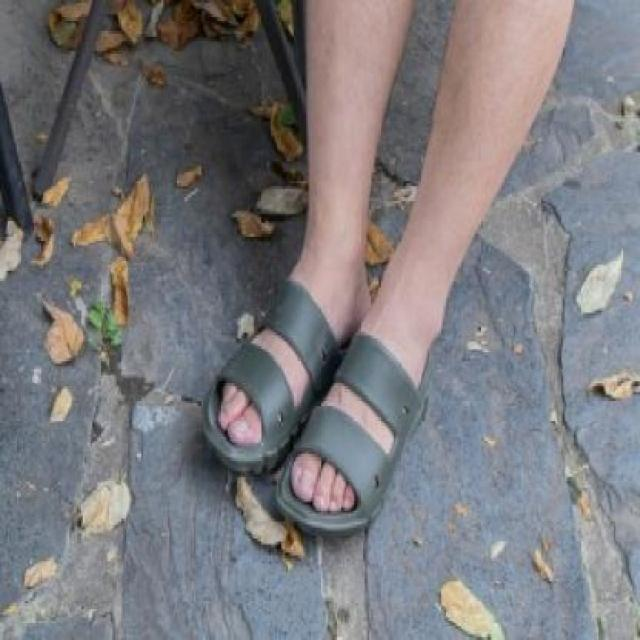Sandals: (275, 282, 447, 537), (191, 246, 334, 480)
